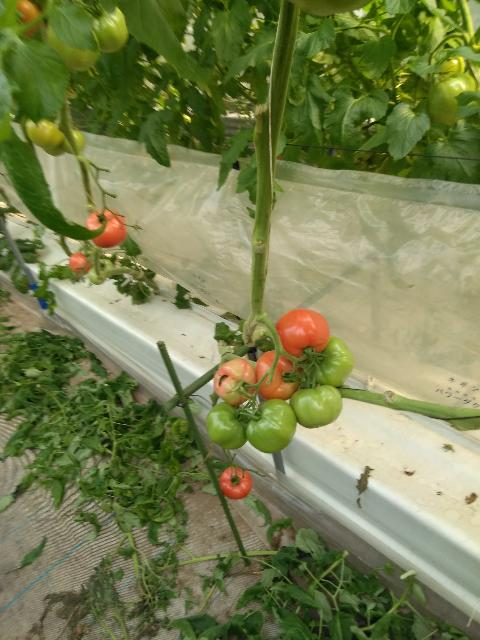b_fully_ripened: (275, 309, 330, 360), (86, 210, 127, 248), (219, 466, 253, 500), (69, 252, 93, 275)
b_green: (299, 335, 355, 387), (47, 21, 101, 73), (246, 398, 297, 453), (427, 71, 477, 123), (288, 384, 343, 429), (205, 402, 252, 450), (87, 3, 129, 53), (26, 116, 65, 149), (61, 129, 85, 155)
b_half_ripened: (255, 350, 305, 401), (214, 358, 256, 405)
